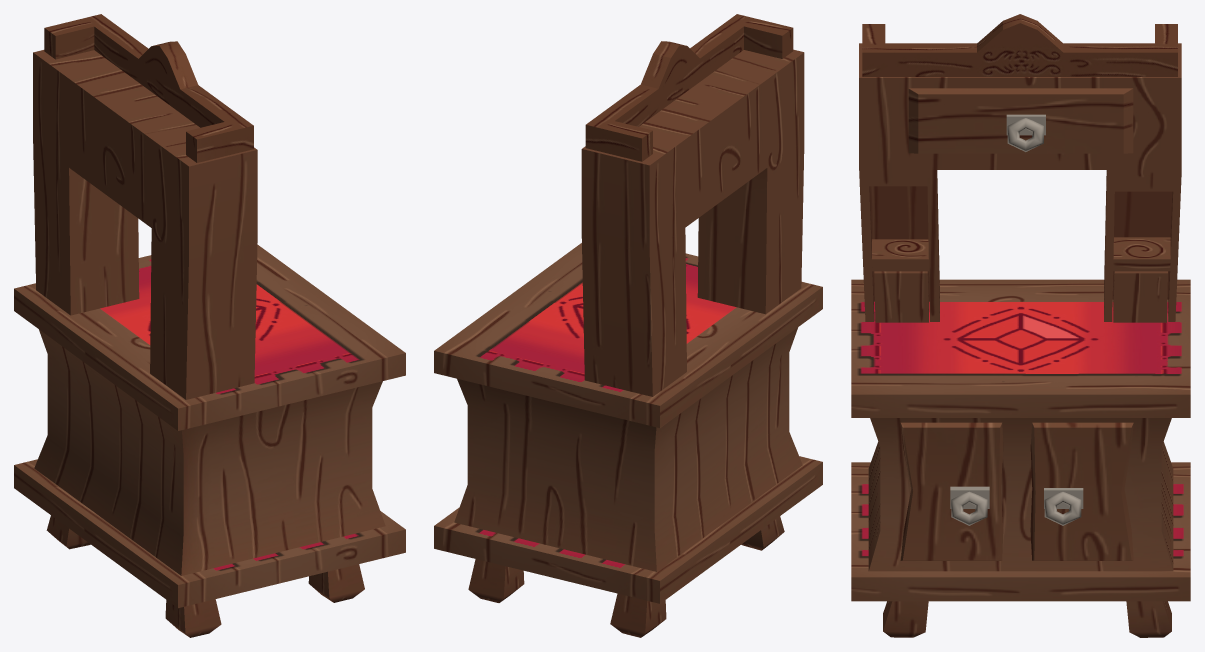
File: PVB export kast met bovenkant.fbx
The picture shows the model from 3 angles, left to right: view 1: azimuth 30°, elevation 25°; view 2: azimuth 150°, elevation 25°; view 3: azimuth 270°, elevation 25°; orthographic projection. The views are drawn at different scales.
Parts seen in each view (by area): view 1: base_top, base, tafel_blad, bottom_plateau, kroon, poot_links_achter, poot_links_voor, poot_rechts_achter; view 2: base_top, base, tafel_blad, bottom_plateau, kroon, poot_rechts_achter, poot_rechts_voor, poot_links_achter; view 3: tafel_blad, base_top, base, bottom_plateau, detail_top, kroon, rechter_deur, linker_deur, rechts_detail_lade, links_detail_lade, rechts_detail_plankje, links_detail_plankje (+6 smaller).
Boxes of the visible parts, x1=… form: base_top: x1=33, y1=50, x2=257, y2=399; base: x1=34, y1=329, x2=385, y2=575; tafel_blad: x1=14, y1=244, x2=405, y2=430; bottom_plateau: x1=14, y1=459, x2=405, y2=608; kroon: x1=44, y1=14, x2=253, y2=162; poot_links_achter: x1=165, y1=599, x2=221, y2=637; poot_links_voor: x1=308, y1=564, x2=364, y2=602; poot_rechts_achter: x1=46, y1=515, x2=90, y2=549; base_top: x1=581, y1=49, x2=804, y2=396; base: x1=454, y1=327, x2=802, y2=571; tafel_blad: x1=434, y1=243, x2=822, y2=427; bottom_plateau: x1=434, y1=456, x2=822, y2=603; kroon: x1=585, y1=14, x2=793, y2=161; poot_rechts_achter: x1=610, y1=593, x2=666, y2=637; poot_rechts_voor: x1=468, y1=559, x2=524, y2=602; poot_links_achter: x1=741, y1=516, x2=784, y2=550; tafel_blad: x1=851, y1=279, x2=1190, y2=417; base_top: x1=859, y1=43, x2=1181, y2=321; base: x1=868, y1=418, x2=1173, y2=571; bottom_plateau: x1=851, y1=462, x2=1190, y2=601; detail_top: x1=908, y1=88, x2=1133, y2=153; kroon: x1=862, y1=14, x2=1177, y2=76; rechter_deur: x1=1030, y1=422, x2=1133, y2=560; linker_deur: x1=900, y1=422, x2=1003, y2=560; rechts_detail_lade: x1=1113, y1=271, x2=1167, y2=322; links_detail_lade: x1=874, y1=271, x2=928, y2=322; rechts_detail_plankje: x1=1113, y1=237, x2=1170, y2=271; links_detail_plankje: x1=872, y1=239, x2=928, y2=271.
Size of the model in its own units: 1.82 by 4.08 by 2.25.
1 material, 1 textured.
